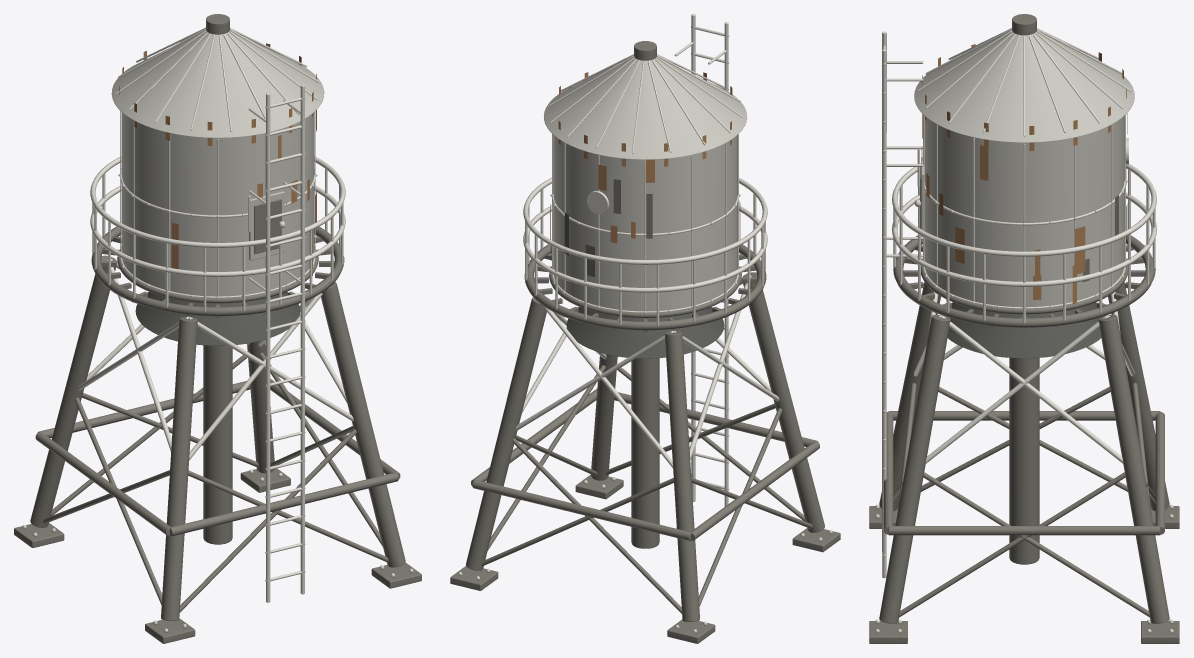
File: water_tower.glb
3 views of the same model, side by side, from view 1: azimuth 30°, elevation 25°; view 2: azimuth 150°, elevation 25°; view 3: azimuth 270°, elevation 25° (orthographic). The views are drawn at different scales.
Visible parts, largest first — view 1: large cylindrical water tank shell, shallow conical metal roof, splayed support leg 1, splayed support leg 2, center drain pipe, splayed support leg 4, dished underside hopper, circular catwalk outer deck edge, front ladder side rail -0.075, front ladder side rail 0.075, lower horizontal girder side 1, upper circular handrail (+23 smaller); view 2: large cylindrical water tank shell, shallow conical metal roof, splayed support leg 4, center drain pipe, splayed support leg 3, splayed support leg 1, dished underside hopper, circular catwalk outer deck edge, lower horizontal girder side 3, splayed support leg 2, upper circular handrail, lower circular handrail (+21 smaller); view 3: large cylindrical water tank shell, shallow conical metal roof, splayed support leg 2, splayed support leg 3, center drain pipe, dished underside hopper, circular catwalk outer deck edge, lower horizontal girder side 2, splayed support leg 4, splayed support leg 1, front ladder side rail 0.075, upper circular handrail (+18 smaller).
Part boxes in pixels (left/top/right/bottom): large cylindrical water tank shell: left=122, top=112, right=313, bottom=296; shallow conical metal roof: left=111, top=30, right=324, bottom=137; splayed support leg 1: left=161, top=317, right=197, bottom=620; splayed support leg 2: left=321, top=282, right=405, bottom=567; center drain pipe: left=203, top=345, right=232, bottom=544; splayed support leg 4: left=30, top=255, right=117, bottom=527; dished underside hopper: left=135, top=292, right=300, bottom=345; circular catwalk outer deck edge: left=91, top=226, right=344, bottom=316; front ladder side rail -0.075: left=266, top=93, right=270, bottom=602; front ladder side rail 0.075: left=300, top=84, right=304, bottom=594; lower horizontal girder side 1: left=170, top=472, right=398, bottom=536; upper circular handrail: left=90, top=156, right=345, bottom=247; large cylindrical water tank shell: left=553, top=135, right=737, bottom=311; shallow conical metal roof: left=543, top=57, right=747, bottom=159; splayed support leg 4: left=664, top=331, right=699, bottom=621; center drain pipe: left=631, top=358, right=659, bottom=548; splayed support leg 3: left=466, top=297, right=546, bottom=570; splayed support leg 1: left=742, top=272, right=824, bottom=532; dished underside hopper: left=566, top=307, right=724, bottom=358; circular catwalk outer deck edge: left=524, top=244, right=766, bottom=330; lower horizontal girder side 3: left=472, top=480, right=691, bottom=540; splayed support leg 2: left=591, top=354, right=617, bottom=480; upper circular handrail: left=523, top=177, right=767, bottom=264; lower circular handrail: left=523, top=205, right=767, bottom=292; large cylindrical water tank shell: left=924, top=116, right=1124, bottom=307; shallow conical metal roof: left=914, top=31, right=1134, bottom=142; splayed support leg 2: left=879, top=314, right=950, bottom=623; splayed support leg 3: left=1098, top=314, right=1169, bottom=623; center drain pipe: left=1009, top=358, right=1039, bottom=564; dished underside hopper: left=947, top=302, right=1101, bottom=358; circular catwalk outer deck edge: left=893, top=235, right=1155, bottom=327; lower horizontal girder side 2: left=888, top=526, right=1160, bottom=535; splayed support leg 4: left=1108, top=282, right=1169, bottom=511; splayed support leg 1: left=879, top=282, right=940, bottom=511; front ladder side rail 0.075: left=882, top=49, right=886, bottom=578; upper circular handrail: left=892, top=163, right=1156, bottom=256.
Bounding box in the file's own units: 1.12 × 2.23 × 1.12.
